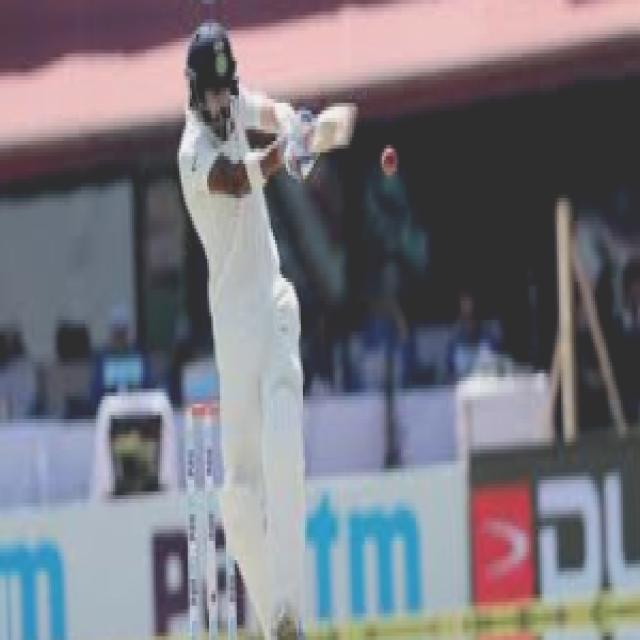toe: (334, 106, 356, 148)
